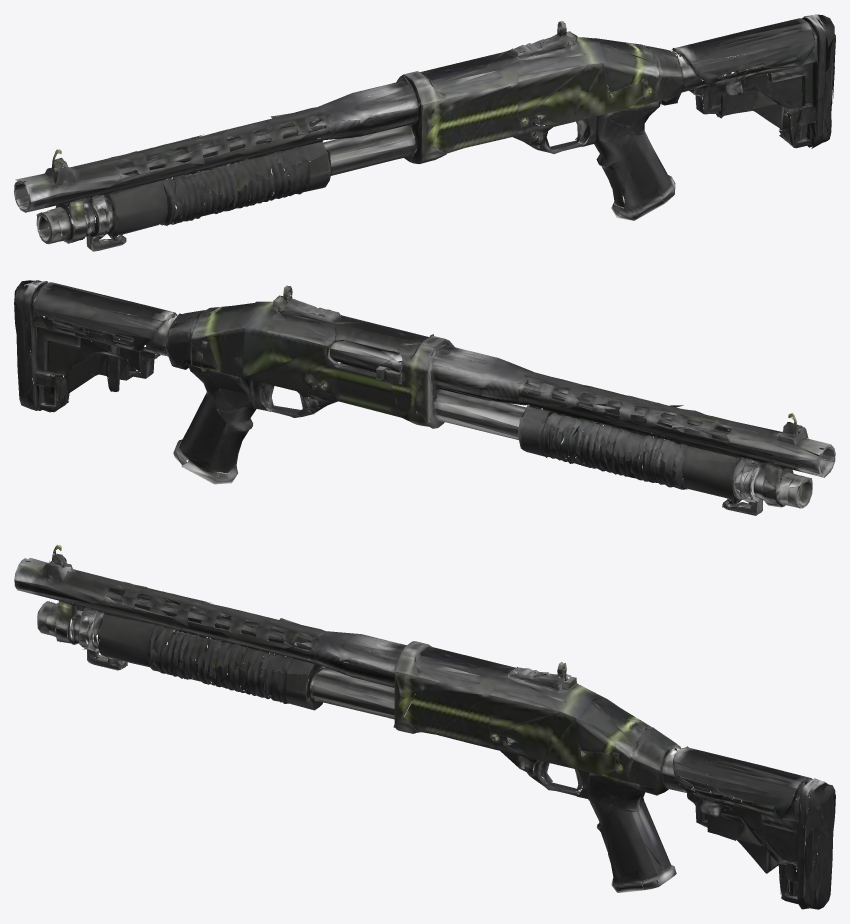
File: gun_shotgun_lo.glb
3 renders of one model, top to bottom at view 1: azimuth 30°, elevation 25°; view 2: azimuth 150°, elevation 25°; view 3: azimuth 330°, elevation 25°, orthographic.
Visible parts, largest first — view 1: Mesh_0; view 2: Mesh_0; view 3: Mesh_0.
Boxes of the visible parts, box(x1,y1,x2,y2) form: Mesh_0: box(14, 14, 835, 251); Mesh_0: box(14, 280, 835, 515); Mesh_0: box(14, 545, 835, 909).
Size of the model in its own units: 1.9 by 0.4734 by 0.1402.
Materials: 1 (1 with a texture image).
